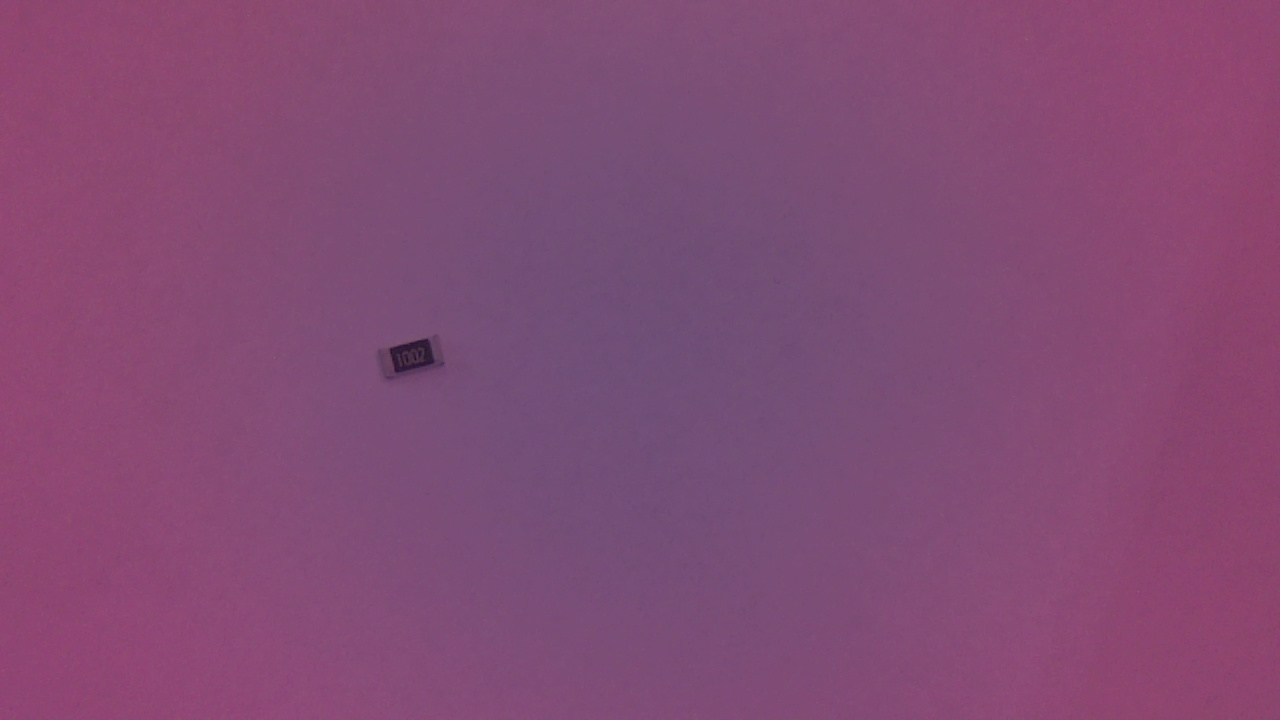Resistor: (376, 333, 455, 391)
